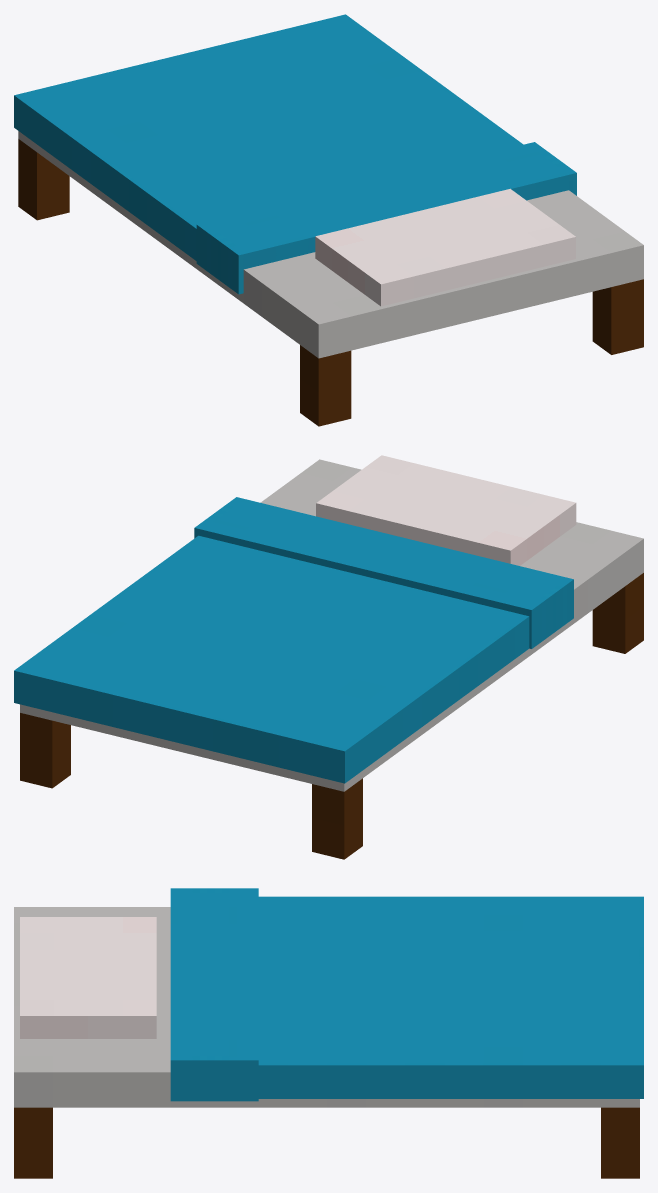
Rendered from lozko.gltf.
The picture shows the model from 3 angles, top to bottom: view 1: azimuth 30°, elevation 25°; view 2: azimuth 150°, elevation 25°; view 3: azimuth 270°, elevation 25°; orthographic projection. The views are drawn at different scales.
Parts seen in each view (by area): view 1: main, materac, poducha, main-zawijas, noga (×3), prawy-opad, prawy-opad-zawijas, tyl-opad, lewy-opad; view 2: main, poducha, main-zawijas, materac, tyl-opad, noga (×3), prawy-opad, prawy-opad-zawijas, lewy-opad; view 3: main, materac, poducha, main-zawijas, lewy-opad, noga (×2), lewy-opad-zawijas, tyl-opad, prawy-opad, prawy-opad-zawijas.
Part boxes in pixels (bbox=[...]): main: bbox=[19, 16, 568, 268]; materac: bbox=[18, 131, 643, 358]; poducha: bbox=[315, 188, 575, 306]; main-zawijas: bbox=[202, 144, 568, 264]; noga (×3): bbox=[18, 139, 643, 426]; prawy-opad: bbox=[16, 96, 245, 293]; prawy-opad-zawijas: bbox=[196, 222, 246, 294]; tyl-opad: bbox=[14, 14, 347, 128]; lewy-opad: bbox=[344, 16, 572, 192]; main: bbox=[20, 536, 526, 748]; poducha: bbox=[316, 455, 576, 565]; main-zawijas: bbox=[202, 499, 568, 615]; materac: bbox=[20, 459, 643, 791]; tyl-opad: bbox=[14, 669, 347, 783]; noga (×3): bbox=[20, 573, 643, 859]; prawy-opad: bbox=[343, 616, 529, 781]; prawy-opad-zawijas: bbox=[523, 578, 573, 648]; lewy-opad: bbox=[16, 535, 201, 670]; main: bbox=[258, 898, 639, 1063]; materac: bbox=[14, 907, 639, 1107]; poducha: bbox=[20, 917, 156, 1038]; main-zawijas: bbox=[170, 891, 258, 1056]; lewy-opad: bbox=[258, 1063, 639, 1098]; noga (×2): bbox=[14, 1107, 639, 1178]; lewy-opad-zawijas: bbox=[170, 1056, 258, 1101]; tyl-opad: bbox=[639, 896, 643, 1098]; prawy-opad: bbox=[258, 896, 639, 898]; prawy-opad-zawijas: bbox=[170, 888, 258, 892].
Bounding box in the file's own units: 0.65 × 0.2281 × 1.01.
4 materials, 4 textured.
